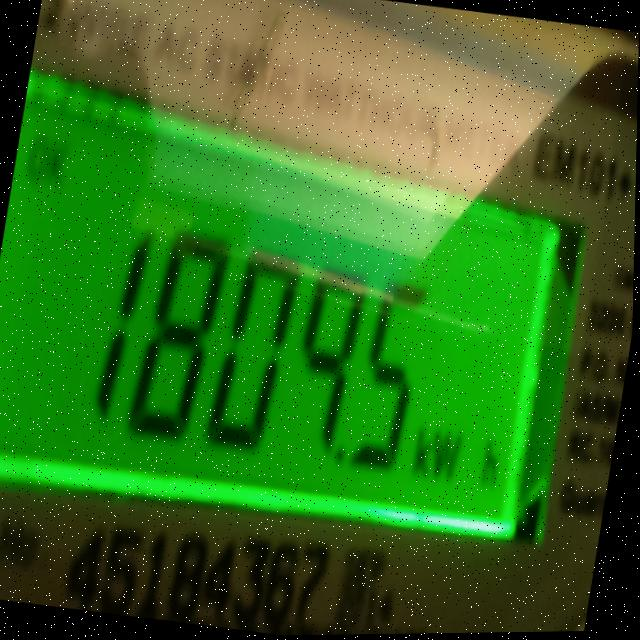.: (331, 424, 354, 472)
0: (201, 239, 309, 482)
1: (82, 221, 159, 438)
5: (346, 266, 434, 479)
8: (126, 222, 237, 471)
9: (280, 257, 373, 464)
